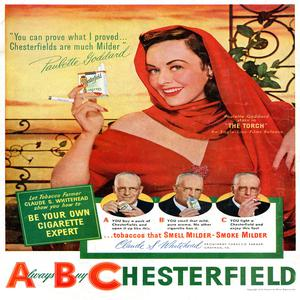cigarette: (45, 90, 83, 106), (249, 197, 257, 205)
